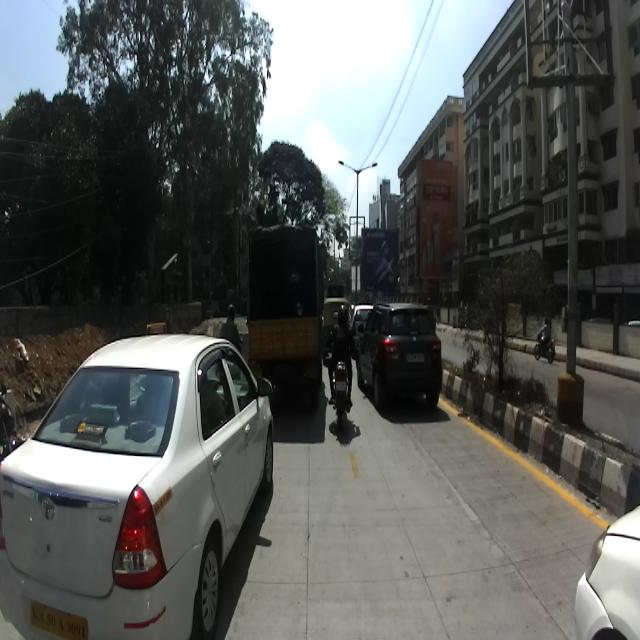car ahead at: (0, 331, 276, 640), (353, 289, 447, 409)
